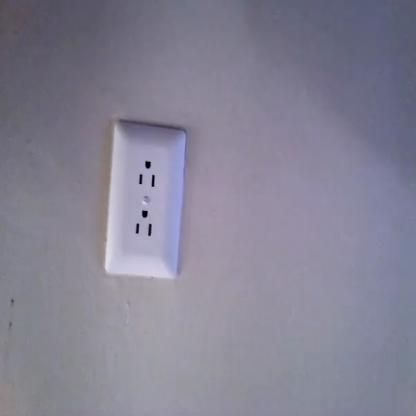OUTLET: (103, 125, 186, 279)
